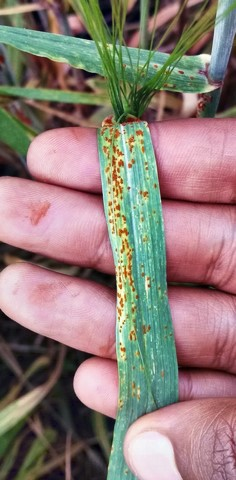Leaf Rust: (97, 120, 173, 353)
